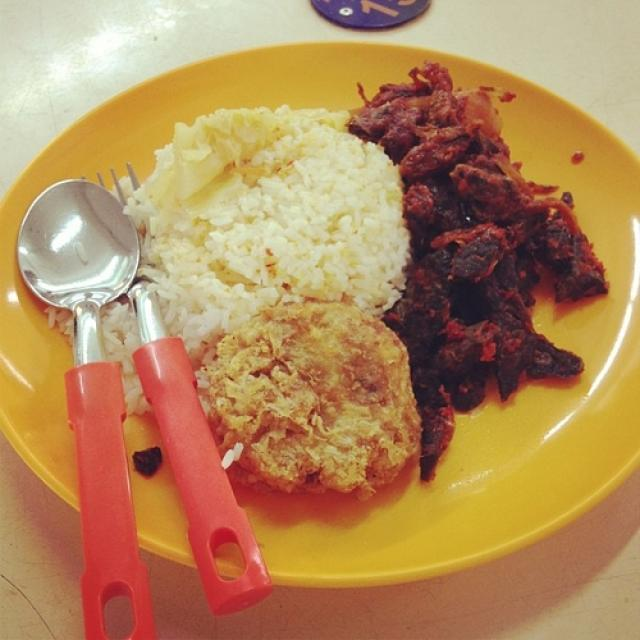米饭主食: (19, 32, 616, 586)
